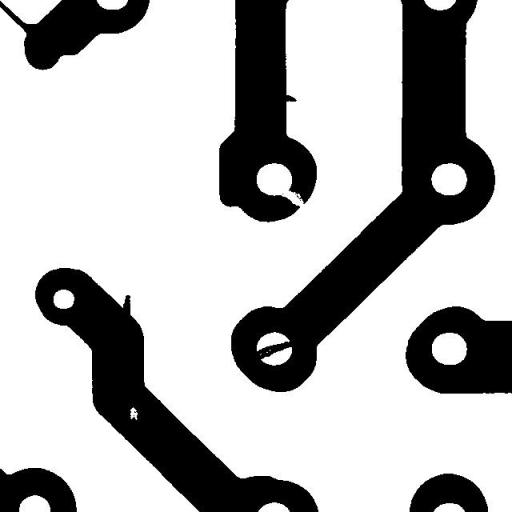open: (267, 182, 311, 216)
pin-hole: (122, 399, 145, 427)
short: (246, 334, 306, 366)
spur: (115, 288, 138, 322), (274, 87, 304, 109)
